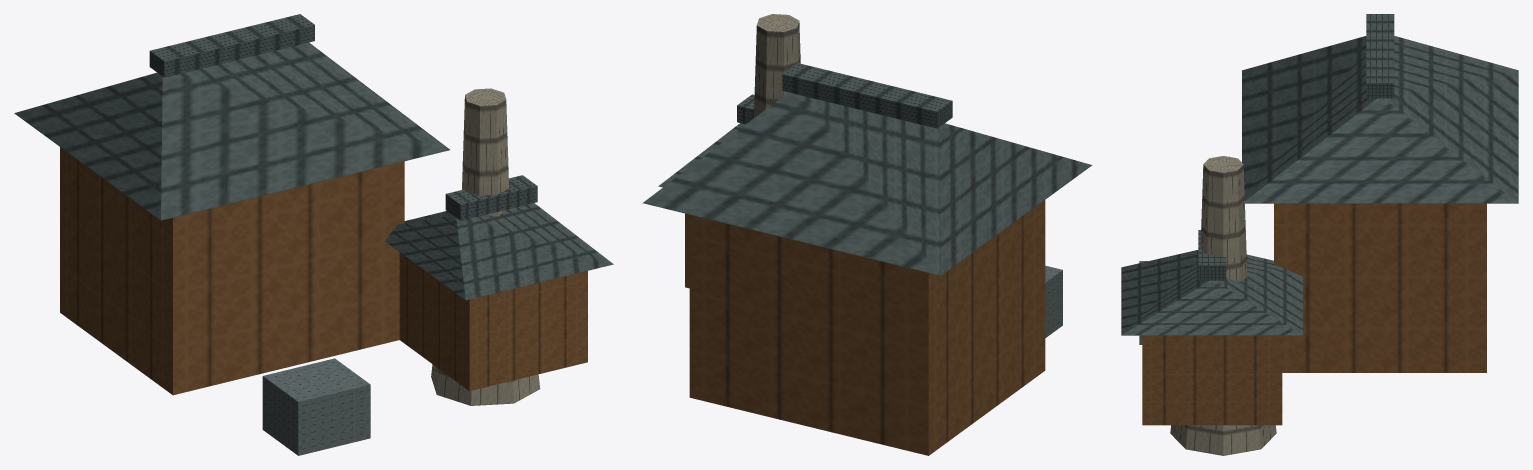
File: domestic-SMITH-2-lod1.glb
3 views of the same model, side by side, from view 1: azimuth 30°, elevation 25°; view 2: azimuth 150°, elevation 25°; view 3: azimuth 270°, elevation 25° (orthographic). The views are drawn at different scales.
Bounding box in the file's own units: 0.755 × 0.604 × 0.7095.
Materials: 1 (1 with a texture image).
